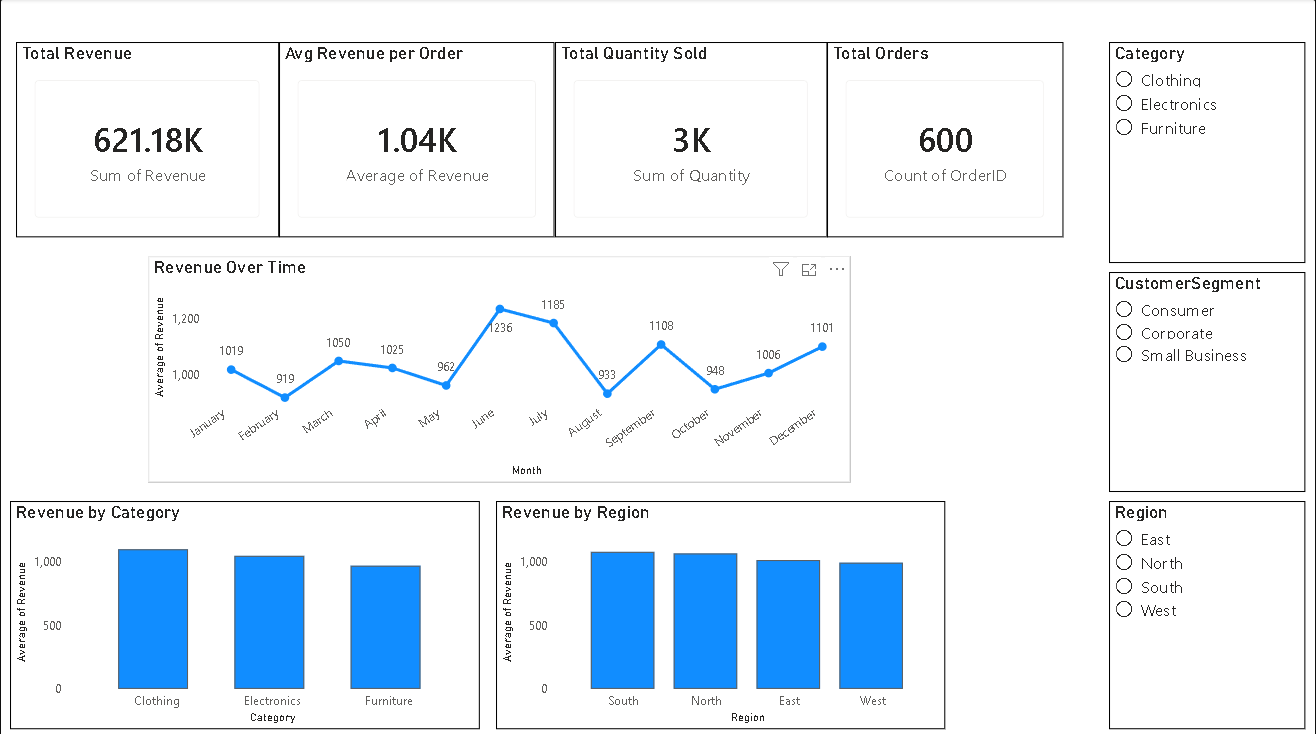

This screenshot's page, from the dashboard's own definition file:
{"tool":"powerbi","page":{"name":"Page 1","canvas":[1280,720],"ordinal":0},"visuals":[{"type":"cardVisual","title":"Total Revenue","fields":{"Data":["Sum(sales_data.Revenue)"]},"box":[15.6,41.8,255.8,189.7],"z":0},{"type":"cardVisual","title":"Avg Revenue per Order","fields":{"Data":["Avg(sales_data.Revenue)","select"]},"box":[271.4,41.8,268.4,189.7],"z":1000},{"type":"cardVisual","title":"Total Quantity Sold","fields":{"Data":["Sum(sales_data.Quantity)"]},"box":[539.8,41.8,264.6,189.7],"z":2000},{"type":"cardVisual","title":"Total Orders","fields":{"Data":["CountNonNull(sales_data.OrderID)"]},"box":[804.4,41.8,229.5,189.7],"z":3000},{"type":"lineChart","title":"Revenue Over Time","fields":{"Y":["Avg(sales_data.Revenue)"],"Category":["sales_data.Date.Variation.Date Hierarchy.Month"]},"box":[144,250,682.8,219.8],"z":3001},{"type":"clusteredColumnChart","title":"Revenue by Category ","fields":{"Category":["sales_data.Category"],"Y":["Avg(sales_data.Revenue)"]},"box":[9.7,488.3,457.1,221.8],"z":3002},{"type":"clusteredColumnChart","title":"Revenue by Region","fields":{"Category":["sales_data.Region"],"Y":["Avg(sales_data.Revenue)"]},"box":[482.4,488.3,436.7,221.8],"z":3003},{"type":"listSlicer","fields":{"Values":["sales_data.Category"]},"box":[1078.7,41.8,190.6,215],"z":3004},{"type":"listSlicer","fields":{"Values":["sales_data.Region"]},"box":[1078.7,488.3,190.6,221.8],"z":3005},{"type":"listSlicer","fields":{"Values":["sales_data.CustomerSegment"]},"box":[1078.7,265.5,190.6,214],"z":3006}]}

Visuals, with their boxes in screenshot pixels (x1, y1, x2, y2), scaled from the page's 1280x720 canvas onto the 1316x734 screenshot:
"Total Revenue" cardVisual: x1=16, y1=43, x2=279, y2=236
"Avg Revenue per Order" cardVisual: x1=279, y1=43, x2=555, y2=236
"Total Quantity Sold" cardVisual: x1=555, y1=43, x2=827, y2=236
"Total Orders" cardVisual: x1=827, y1=43, x2=1063, y2=236
"Revenue Over Time" lineChart: x1=148, y1=255, x2=850, y2=479
"Revenue by Category " clusteredColumnChart: x1=10, y1=498, x2=480, y2=724
"Revenue by Region" clusteredColumnChart: x1=496, y1=498, x2=945, y2=724
listSlicer - sales_data.Category: x1=1109, y1=43, x2=1305, y2=262
listSlicer - sales_data.Region: x1=1109, y1=498, x2=1305, y2=724
listSlicer - sales_data.CustomerSegment: x1=1109, y1=271, x2=1305, y2=489
